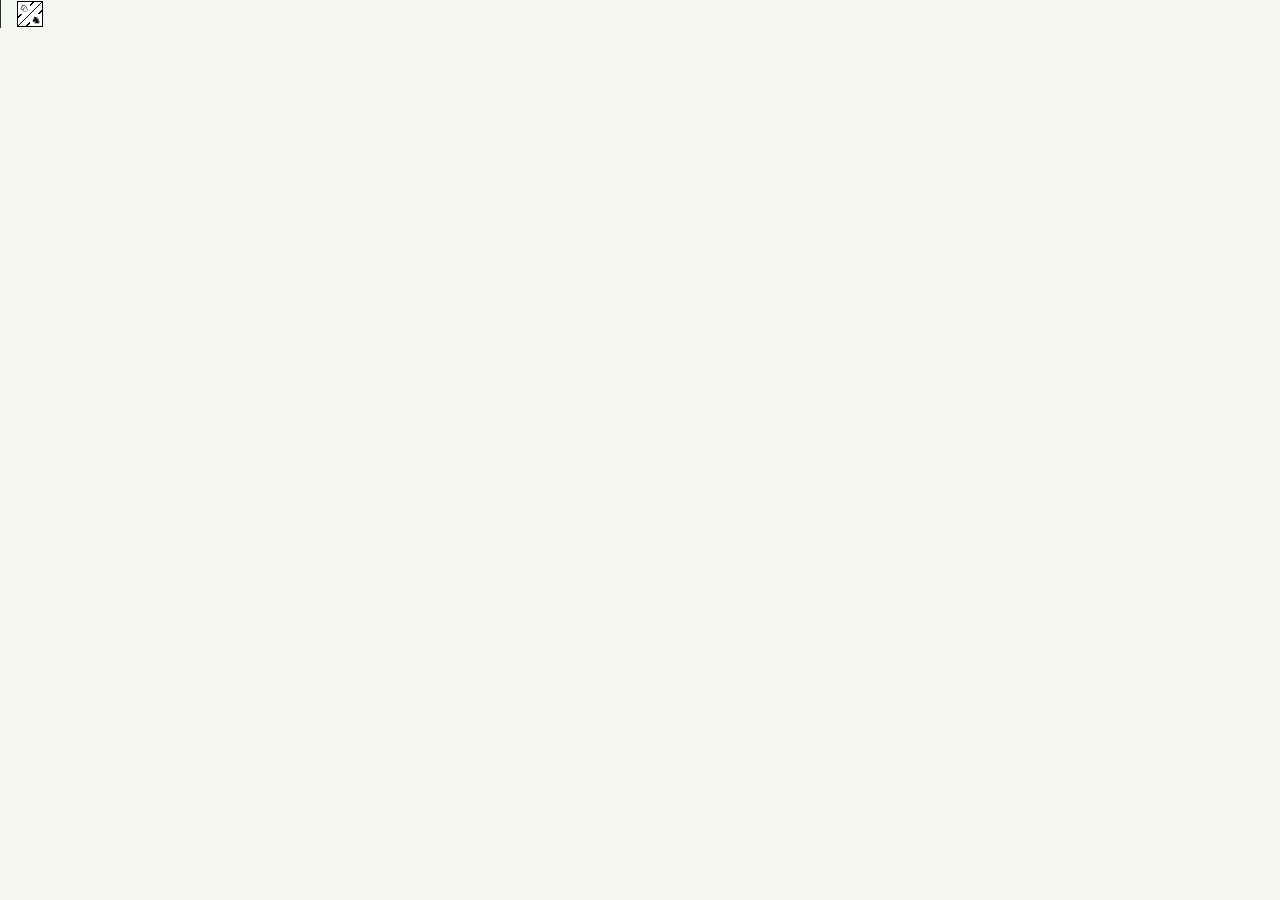
Test: BoardStylePicker › closes on Escape and on a request from outside the panel
Step 1. Click the button named "Board skin:" → (30, 14), box [1,0,59,28]
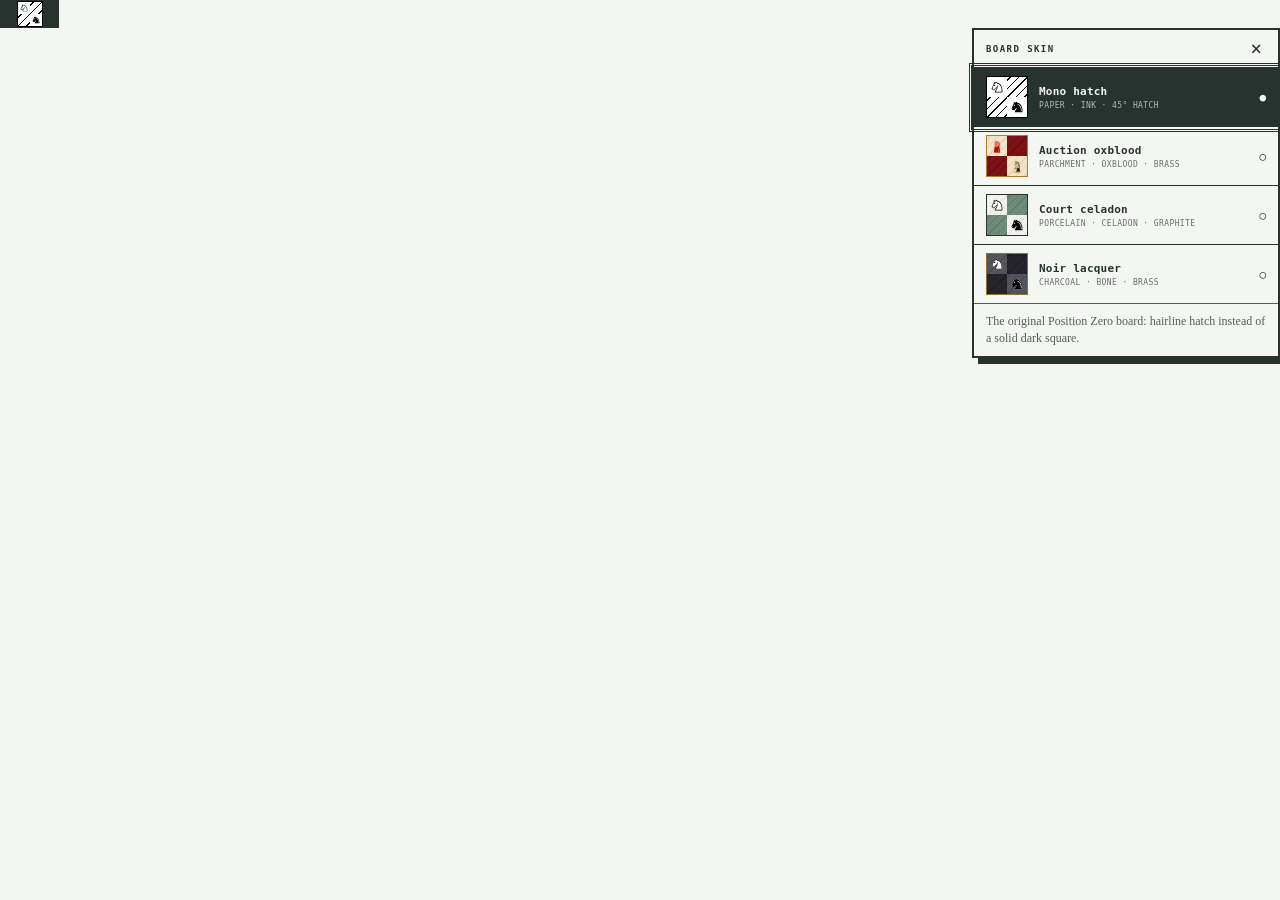
Check: the dialog "BOARD SKIN" is shown, box [972,28,1279,358]
Step 2. Press Escape
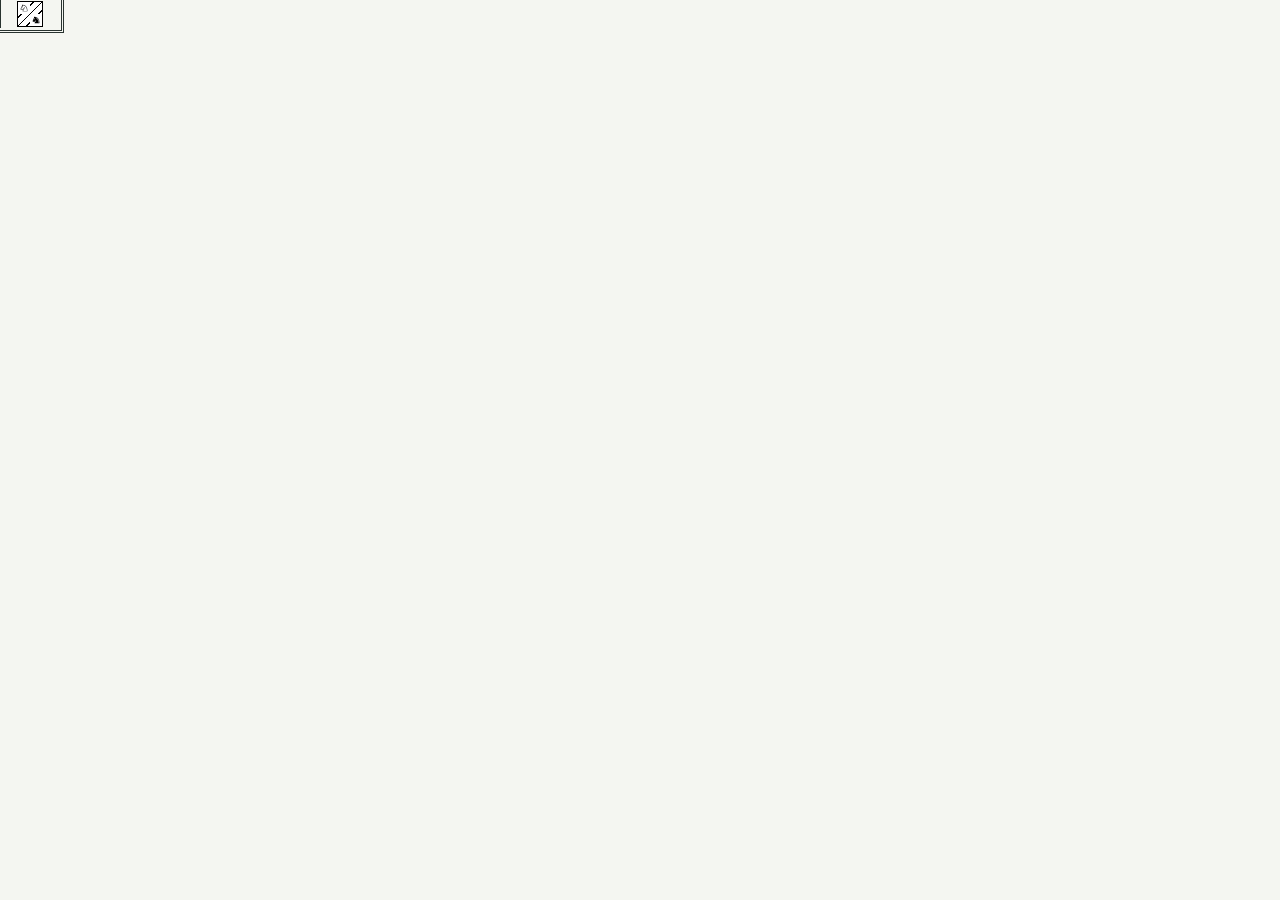
Check: the text "BOARD SKIN" is gone
Check: the button named "Board skin:" is collapsed
Step 3. Click the button named "Board skin:" → (30, 14), box [1,0,59,28]
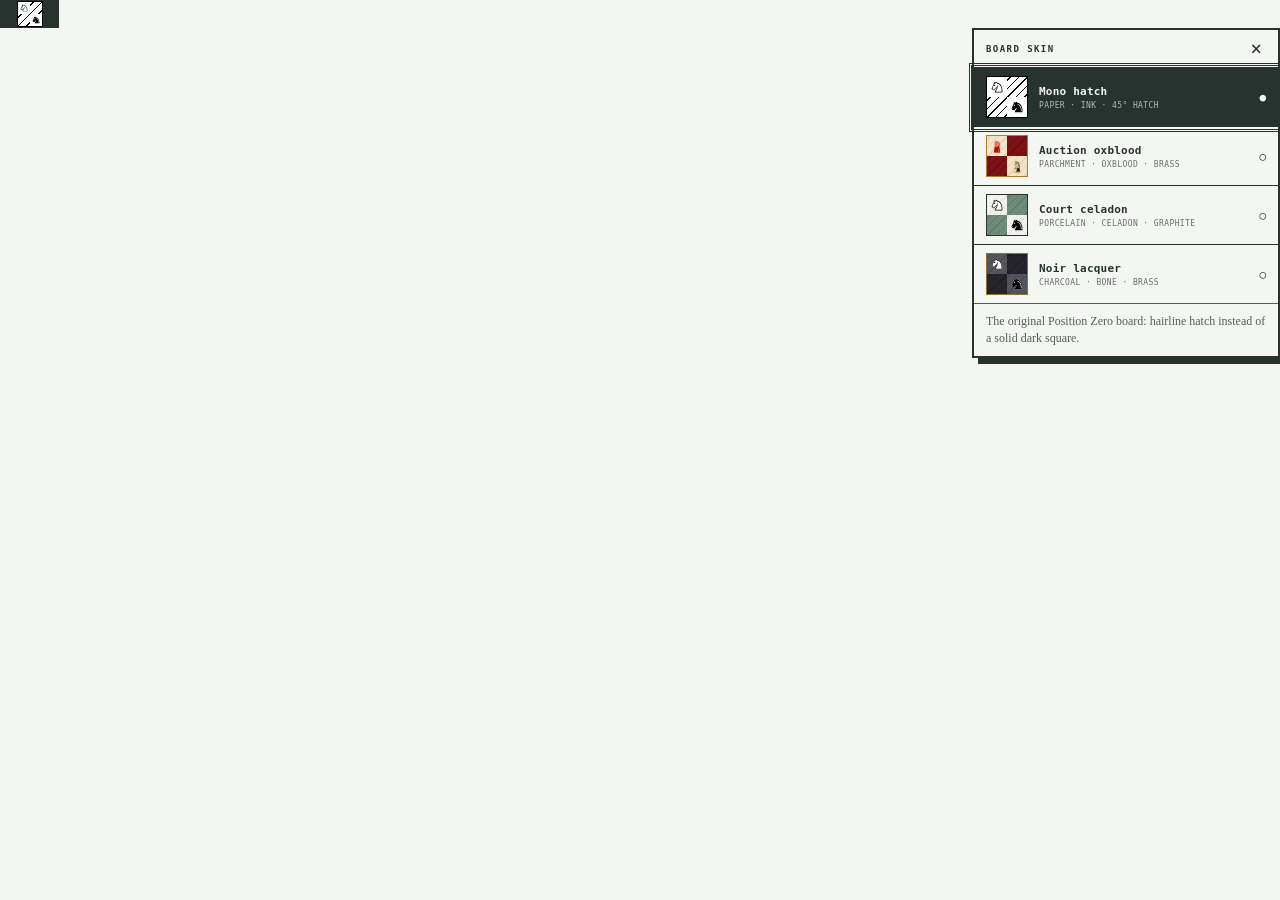
Step 4. Press the mouse on the element that starts with "BOARD SKIN" → (640, 450), box [0,0,1279,899]
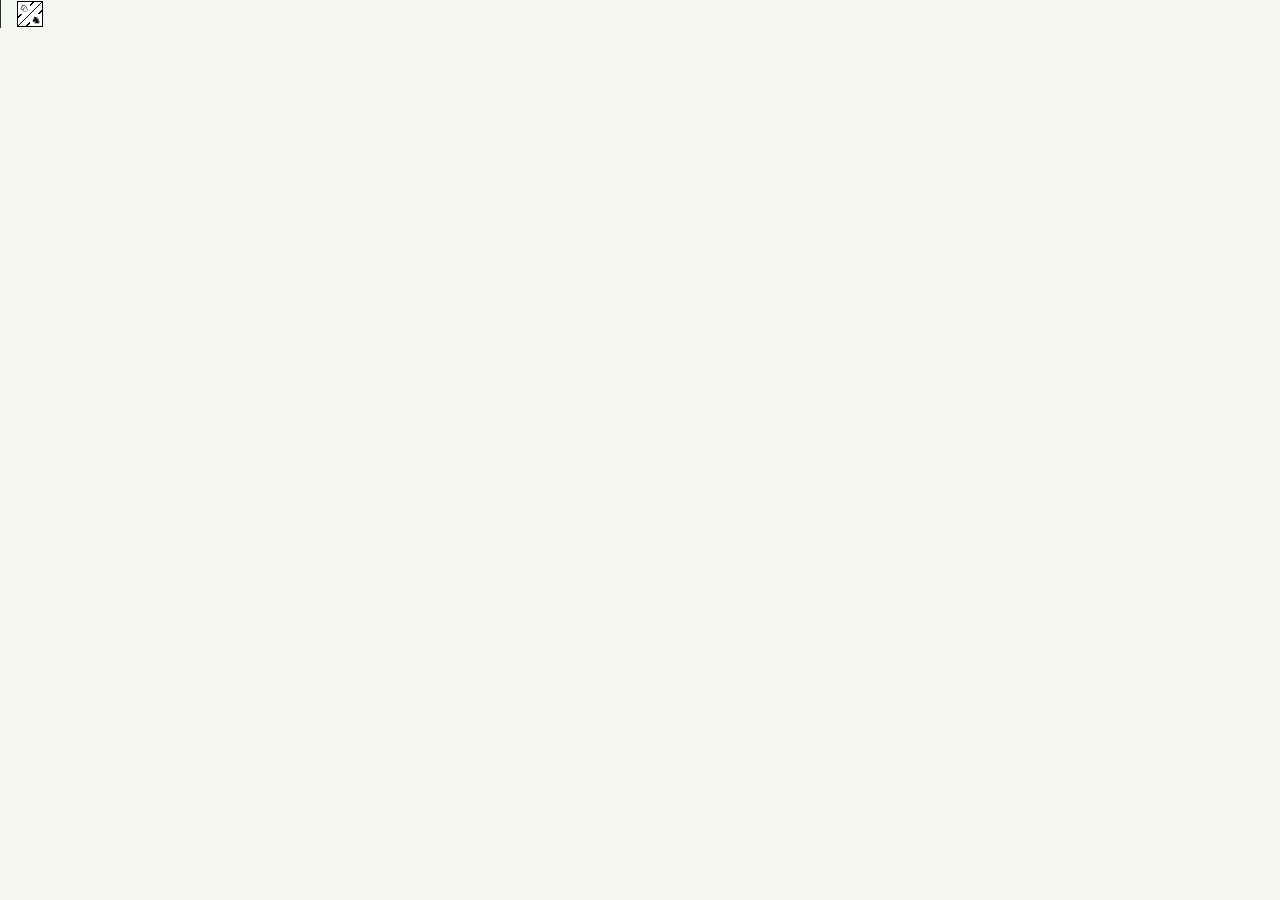
Check: the text "BOARD SKIN" is gone
